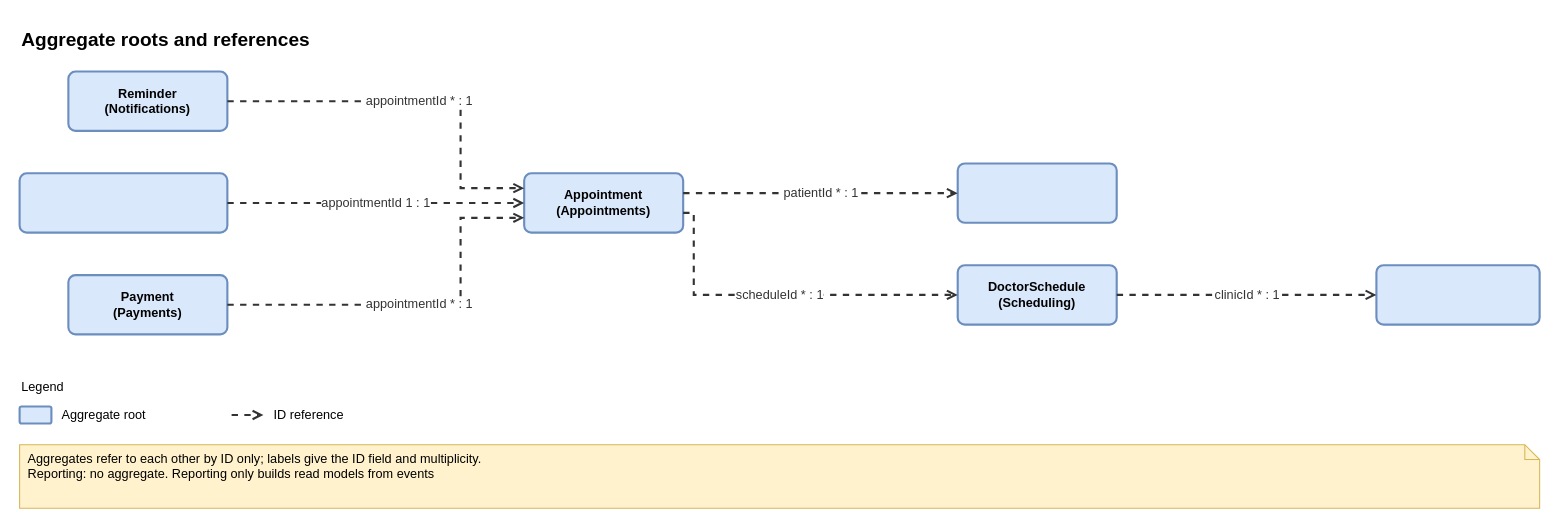
This 1558x527 diagram has some shape labels left out. The shapes that lost their labels are listed below. From the top down, each one's centre as x and y in pixels, then its label:
At (123,202): "InsuranceCheck (Insurance verification)".
At (1036,192): "UserAccount (Identity)".
At (1457,294): "Clinic (Clinic directory)".
